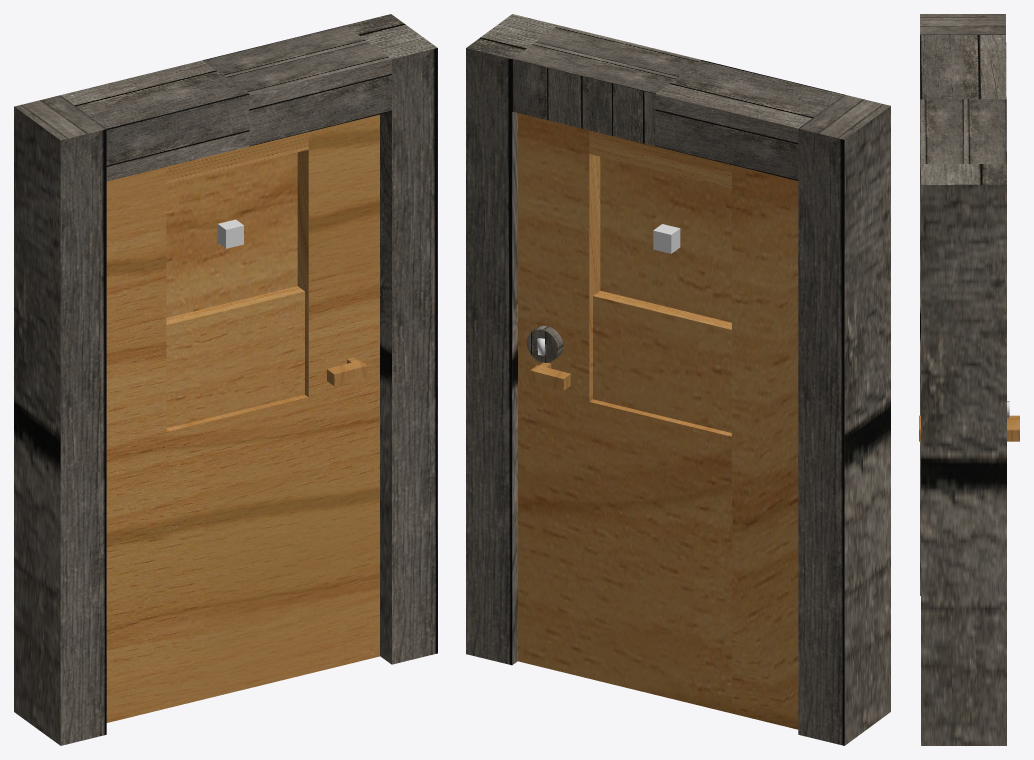
The model's file is EntranceDoor.fbx.
The picture shows the model from 3 angles, left to right: view 1: azimuth 30°, elevation 25°; view 2: azimuth 150°, elevation 25°; view 3: azimuth 270°, elevation 25°; orthographic projection. The views are drawn at different scales.
Parts seen in each view (by area): view 1: Door, DoorFrame; view 2: Door, DoorFrame, ClapHolder, Peek; view 3: DoorFrame, Door.
Part boxes in pixels (x1,y1,x2,y2): Door: (106, 114, 379, 722); DoorFrame: (14, 14, 437, 745); Door: (518, 113, 798, 729); DoorFrame: (466, 14, 890, 745); ClapHolder: (526, 325, 563, 362); Peek: (653, 224, 680, 253); DoorFrame: (920, 14, 1006, 745); Door: (919, 415, 1019, 441).
Size of the model in its own units: 41.31 by 10.31 by 63.27.
Materials: 2 (2 with a texture image).
